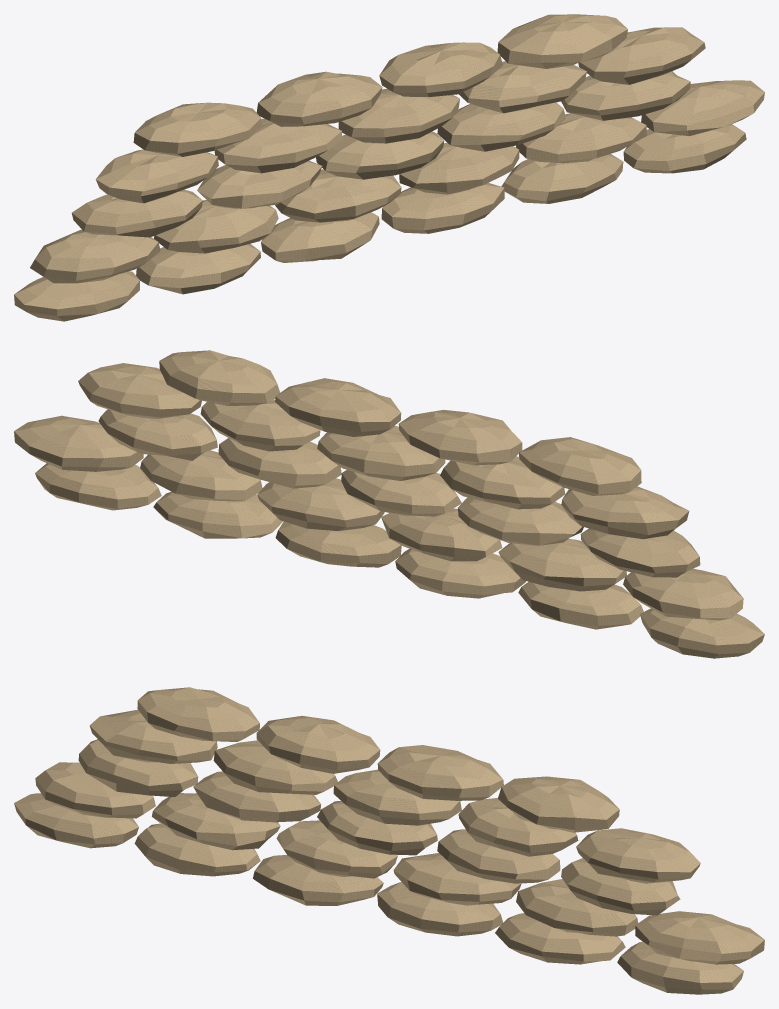
File: sandbags.glb
3 views of the same model, one above another, from view 1: azimuth 30°, elevation 25°; view 2: azimuth 150°, elevation 25°; view 3: azimuth 330°, elevation 25° (orthographic).
Visible parts, largest first — view 1: sandbags; view 2: sandbags; view 3: sandbags.
Part boxes in pixels (x1=…): sandbags: x1=14, y1=14, x2=764, y2=321; sandbags: x1=14, y1=350, x2=764, y2=658; sandbags: x1=14, y1=687, x2=764, y2=994.
Size of the model in its own units: 2.08 by 0.4659 by 0.2062.
Materials: 1 (1 with a texture image).
